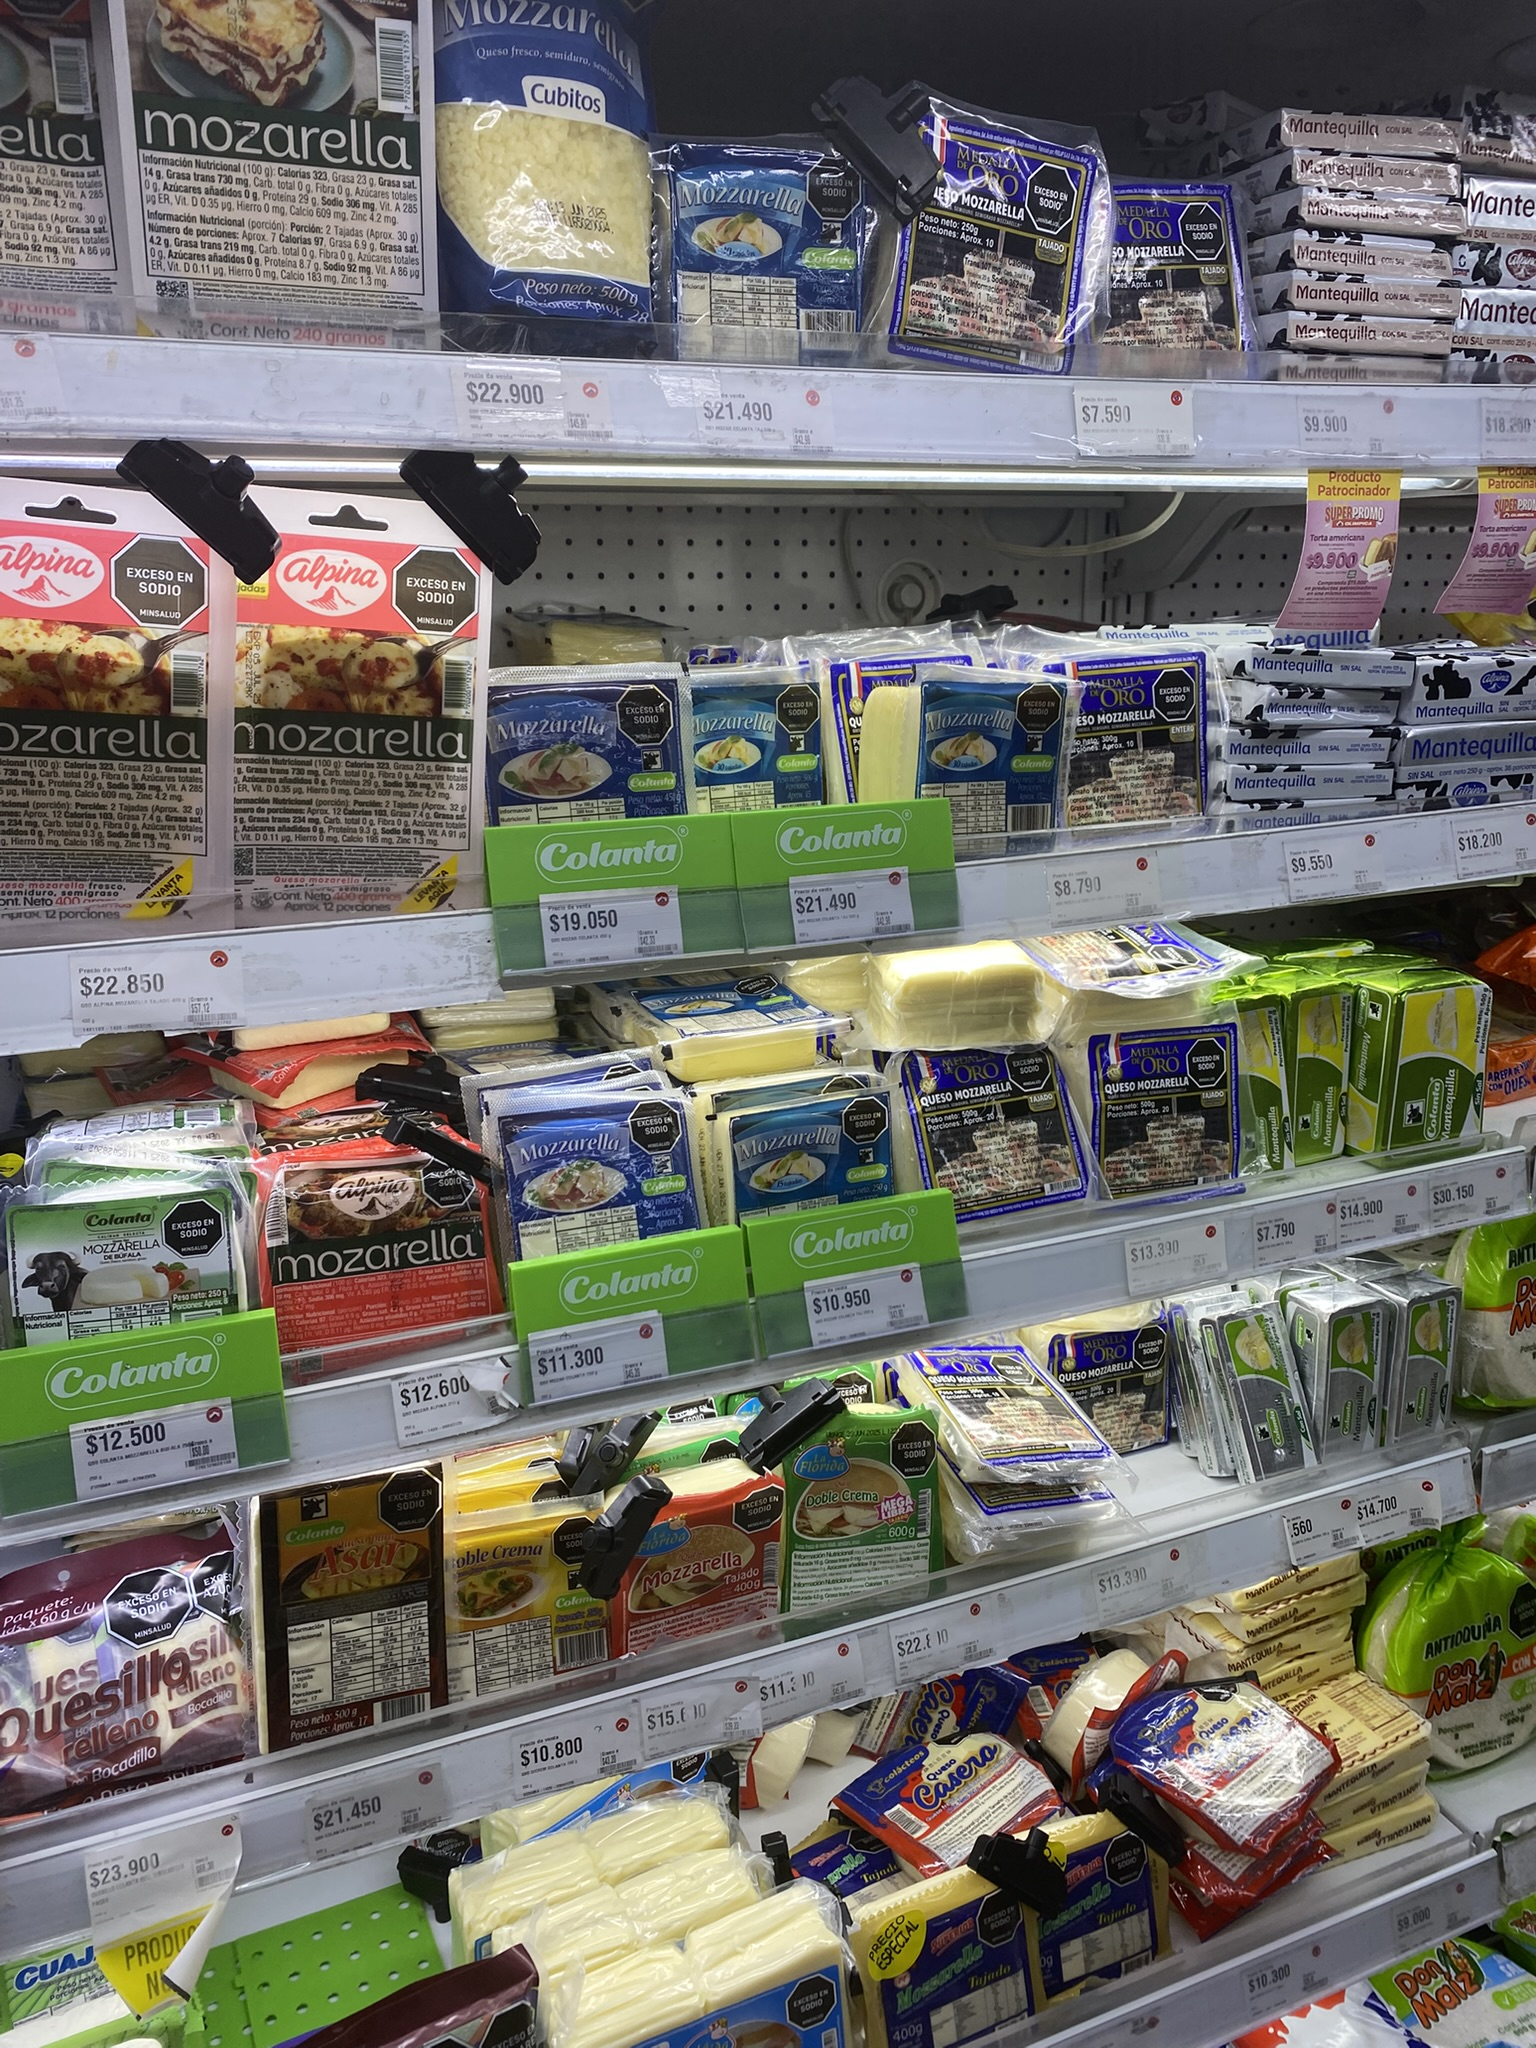Queso Mozzarella: (673, 137, 866, 358), (500, 1079, 713, 1264), (482, 668, 673, 845), (729, 1076, 883, 1224), (681, 671, 829, 808), (636, 984, 829, 1064)
